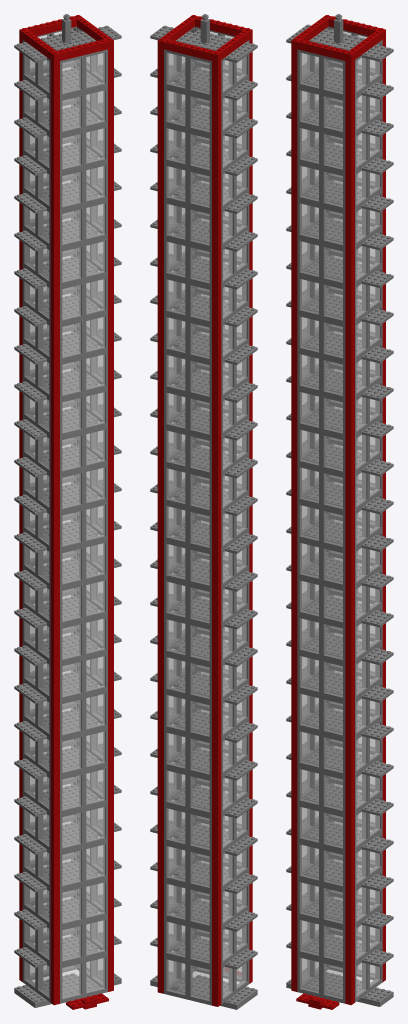
Rendered from 002-generated_25_floors_skyscraper.glb.
3 renders of one model, left to right at view 1: azimuth 30°, elevation 25°; view 2: azimuth 150°, elevation 25°; view 3: azimuth 330°, elevation 25°, orthographic.
Parts seen in each view (by area): view 1: 4347.dat (×100), 954.dat (×75), 3033.dat (×26), 3030.dat (×10), 3010.dat (×2); view 2: 4347.dat (×100), 954.dat (×50), 3033.dat (×26), 3030.dat (×6), 3010.dat (×2); view 3: 954.dat (×75), 4347.dat (×75), 3033.dat (×26), 3030.dat (×26), 3010.dat (×2).
Part boxes in pixels (left/top/right/bottom): 4347.dat (×100): left=22, top=40, right=107, bottom=1003; 954.dat (×75): left=39, top=52, right=104, bottom=998; 3033.dat (×26): left=14, top=30, right=94, bottom=1005; 3030.dat (×10): left=48, top=25, right=121, bottom=992; 3010.dat (×2): left=57, top=39, right=107, bottom=60; 4347.dat (×100): left=164, top=40, right=249, bottom=1005; 954.dat (×50): left=167, top=53, right=209, bottom=1000; 3033.dat (×26): left=176, top=30, right=257, bottom=1007; 3030.dat (×6): left=150, top=25, right=222, bottom=805; 3010.dat (×2): left=164, top=39, right=214, bottom=60; 954.dat (×75): left=300, top=53, right=366, bottom=998; 4347.dat (×75): left=297, top=49, right=368, bottom=1003; 3033.dat (×26): left=286, top=24, right=364, bottom=997; 3030.dat (×26): left=321, top=37, right=393, bottom=1004; 3010.dat (×2): left=297, top=39, right=348, bottom=60.
Bounding box in the file's own units: 0.12 × 1.24 × 0.096.
